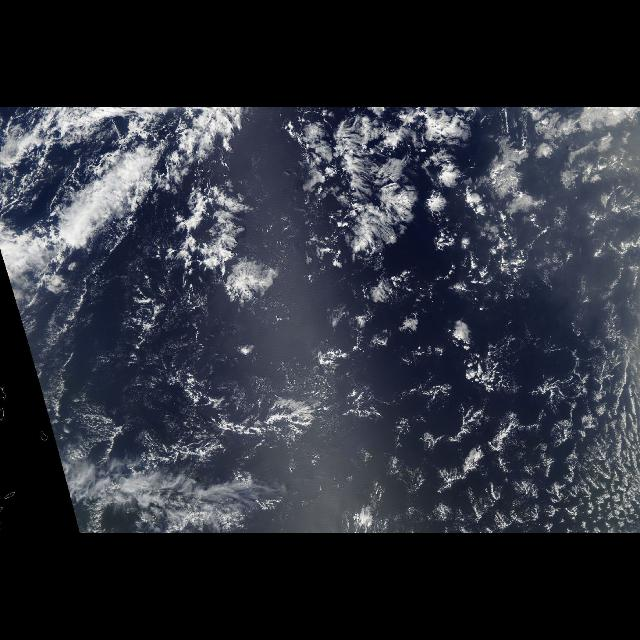Flower: (288, 132, 546, 374)
